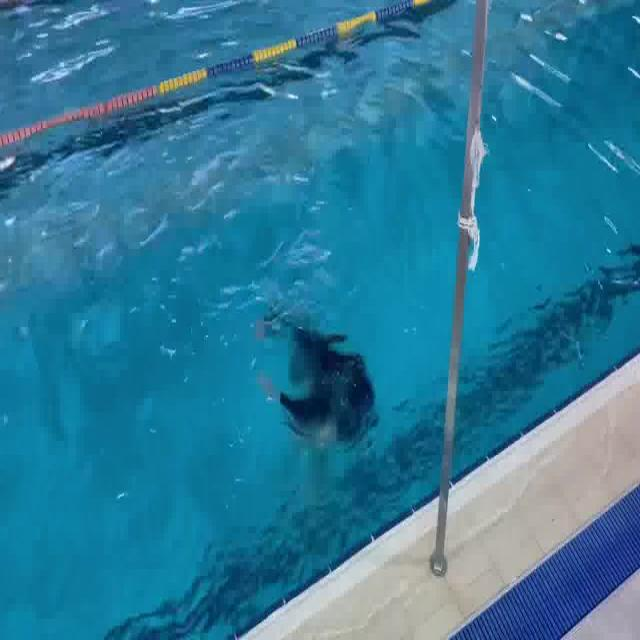Drowning: (246, 287, 404, 489)
